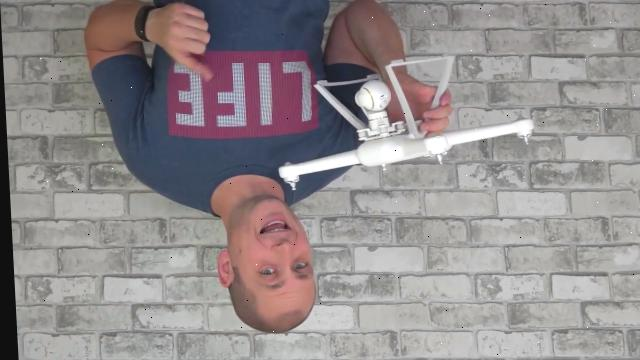drone: (250, 34, 537, 190)
